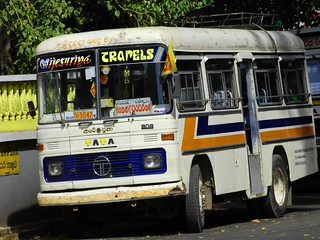bus: (33, 25, 320, 233)
